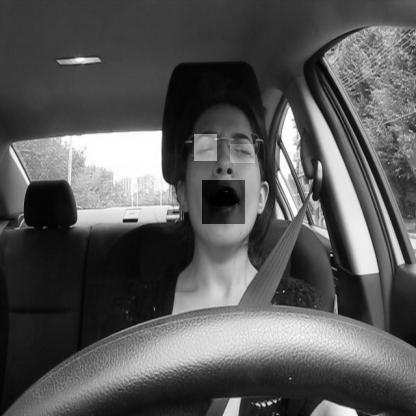seatbelt: (171, 85, 300, 416)
